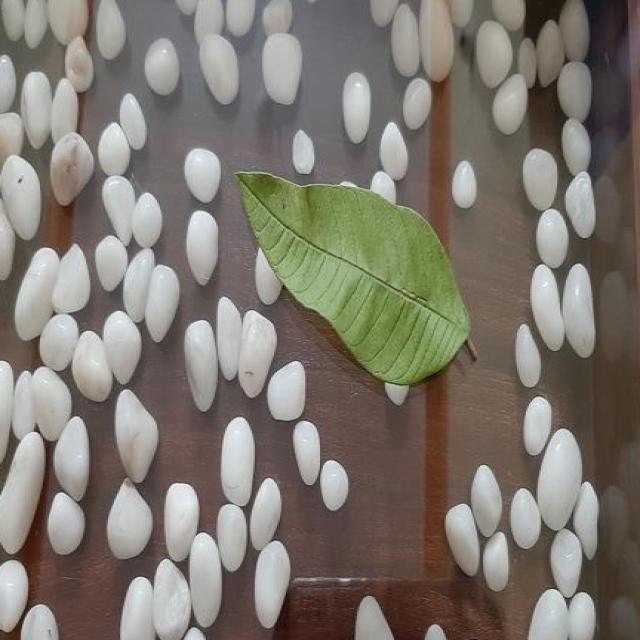leaf: (233, 169, 478, 389)
